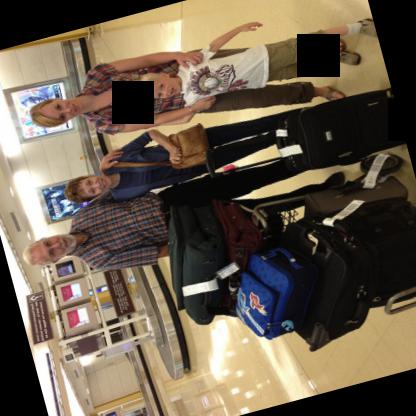backpack: (234, 238, 317, 337)
handbag: (114, 121, 209, 166)
suitcase: (203, 85, 406, 176), (282, 217, 369, 350), (336, 197, 416, 309), (234, 244, 319, 339), (167, 198, 226, 324), (210, 197, 261, 316), (303, 172, 409, 223)
